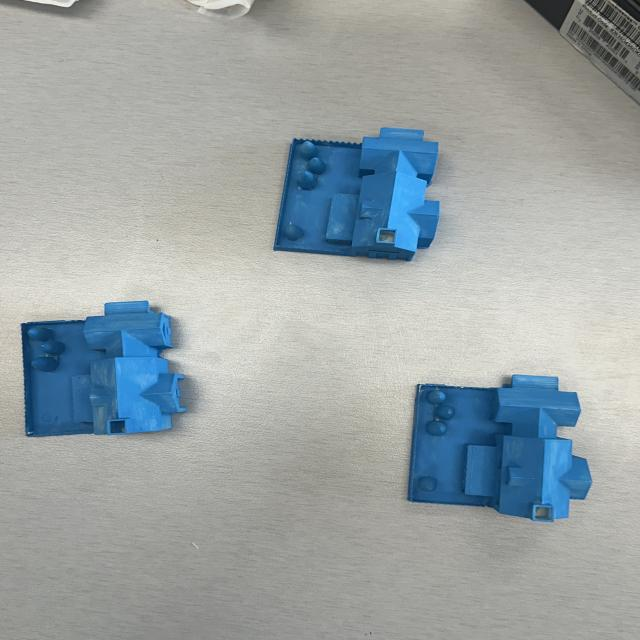house: (404, 372, 592, 523), (21, 297, 194, 441), (272, 124, 448, 265)
